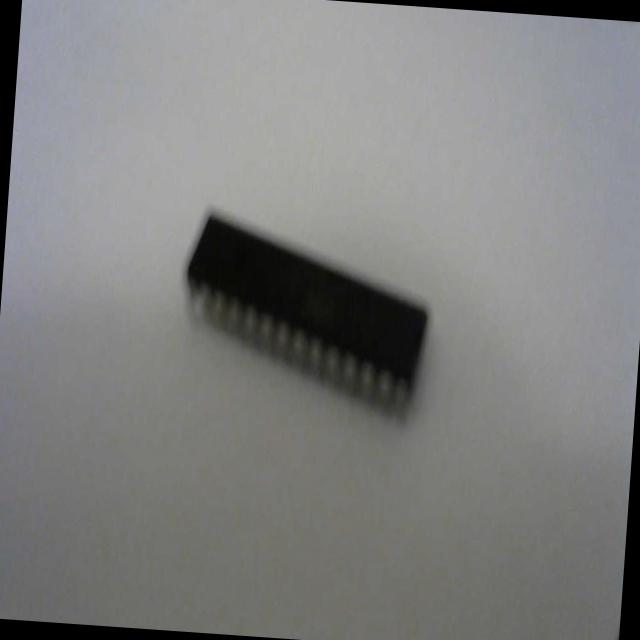atmega: (173, 202, 437, 426)
